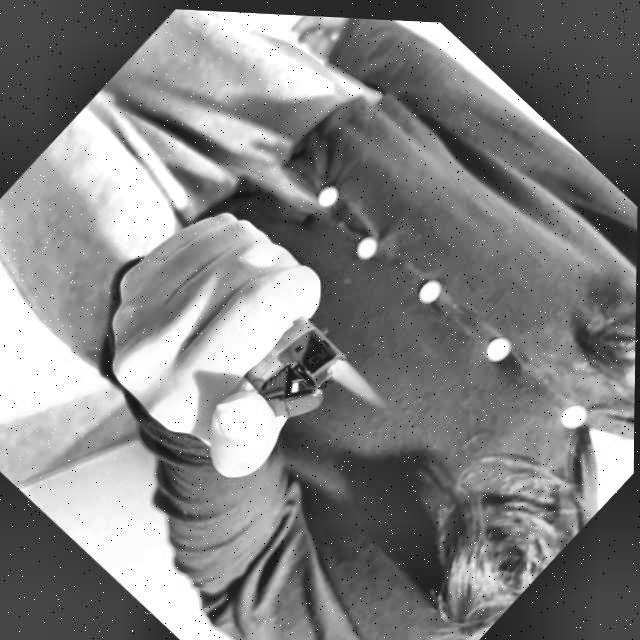Fire: (325, 347, 393, 413)
